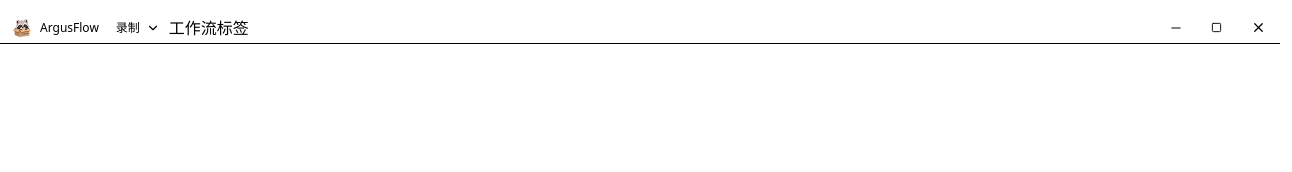
标题栏录制菜单 › 入口位于标题栏，展开与关闭不启动录制，只有选择开始才发送命令
Click the button with aria-label "录制菜单" at (138, 28), box [107,16,169,40]
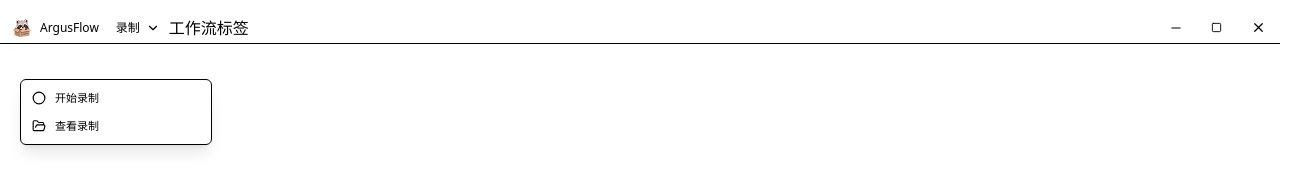
Press Escape in the menu, box [20,79,212,145]
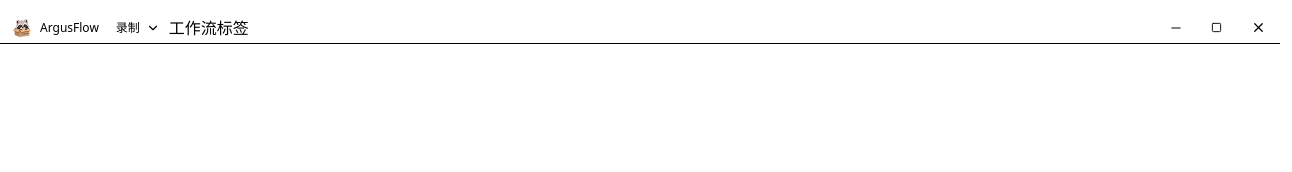
Expected: the menu is gone
Click the button with aria-label "录制菜单" at (138, 28), box [107,16,169,40]
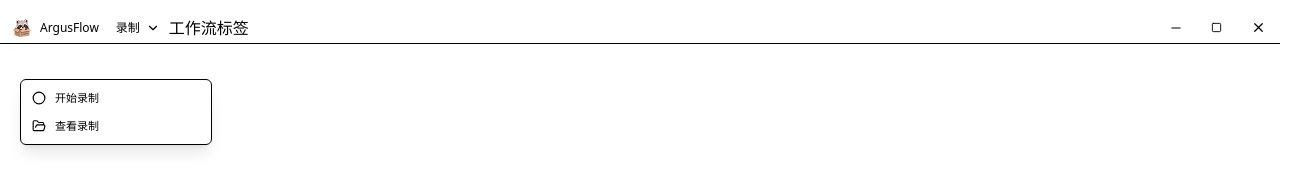
Click the menu item "开始录制" at (116, 98), box [25,84,207,112]
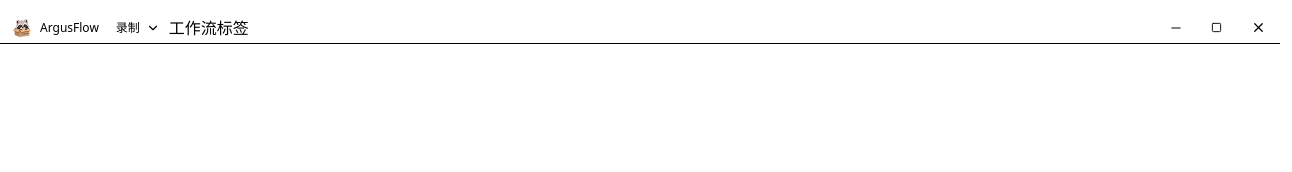
Expected: the menu is gone
